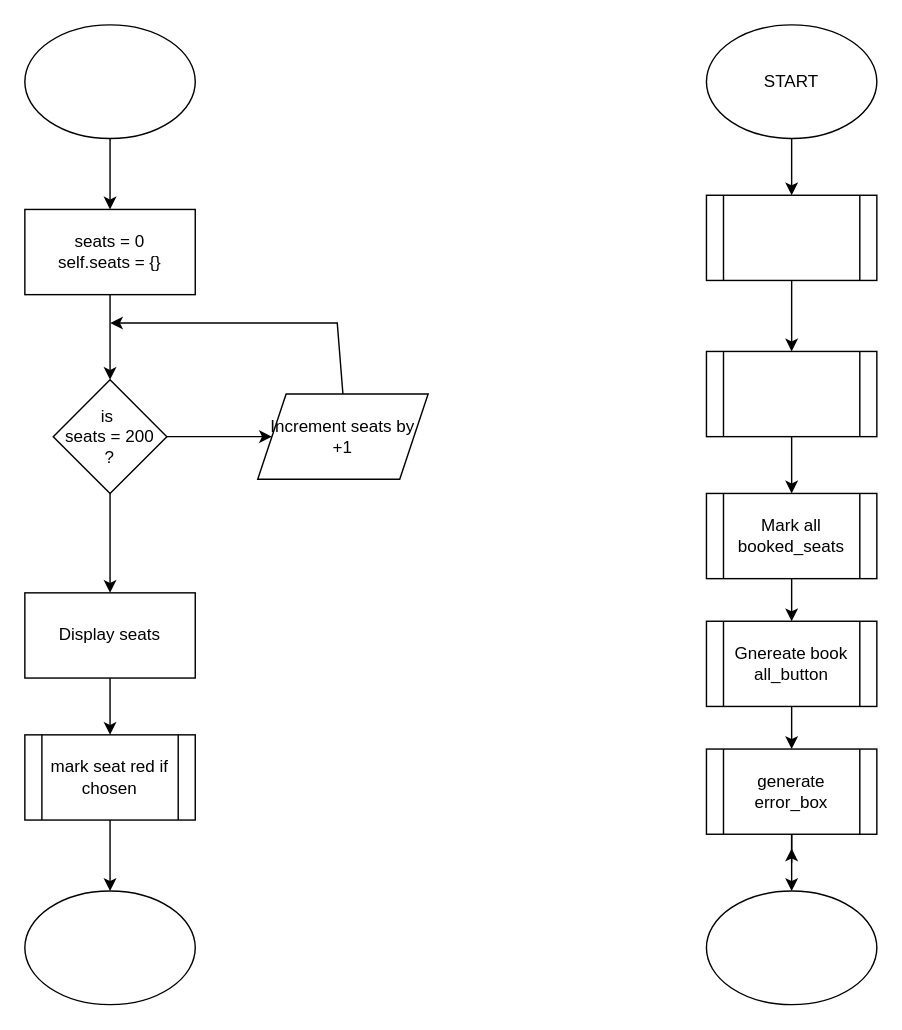
Some shapes in this 902 by 1030 pixel diagram are drawn without their labels. The box of each missing label's shape, as (x1, y1, x2, y2) in pixels:
create stage: (705, 194, 877, 280)
END: (705, 890, 877, 1005)
generate seats: (705, 350, 877, 437)
generate seats END: (23, 890, 195, 1005)
generate seats START: (23, 23, 195, 138)
